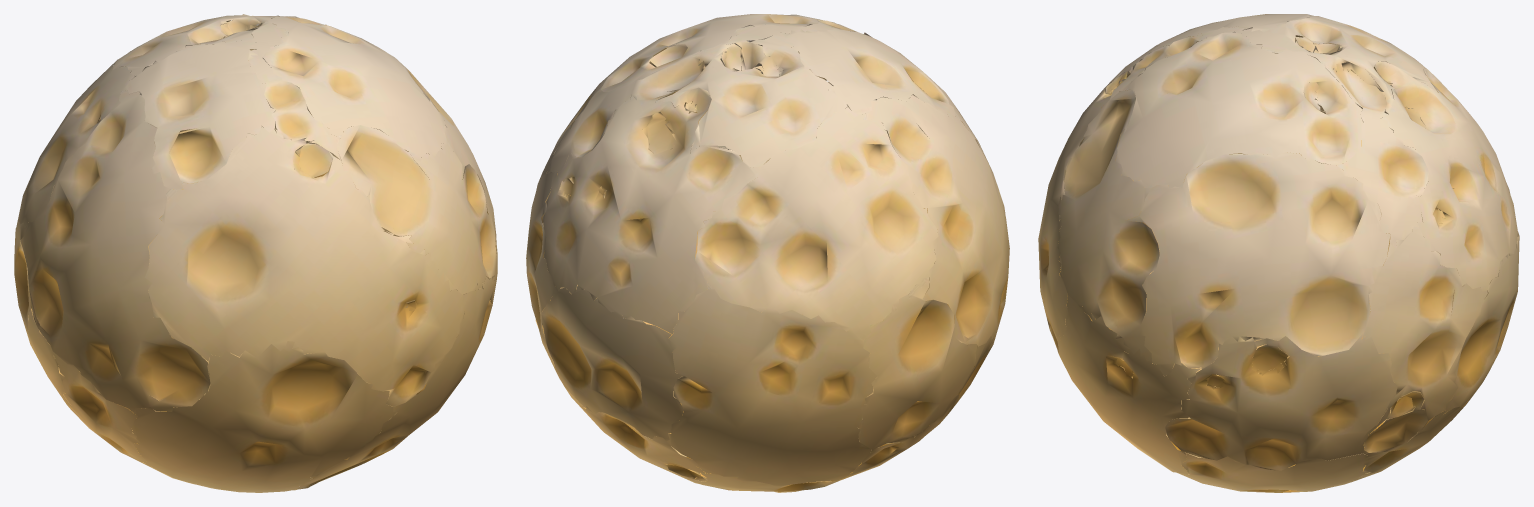
The model's file is moon.glb.
The picture shows the model from 3 angles, left to right: view 1: azimuth 30°, elevation 25°; view 2: azimuth 150°, elevation 25°; view 3: azimuth 270°, elevation 25°; orthographic projection.
Parts seen in each view (by area): view 1: node_0; view 2: node_0; view 3: node_0.
Part boxes in pixels (x1,y1,x2,y2): node_0: [14, 14, 497, 492]; node_0: [526, 14, 1009, 492]; node_0: [1038, 14, 1519, 492].
Bounding box in the file's own units: 2.4 × 2.4 × 2.4.
1 material, 1 textured.
